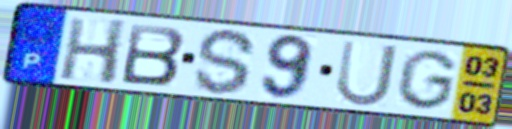9: (261, 32, 319, 103)
B: (119, 21, 188, 88)
G: (392, 47, 460, 112)
H: (56, 16, 130, 87)
S: (191, 26, 260, 97)
U: (333, 38, 401, 109)
